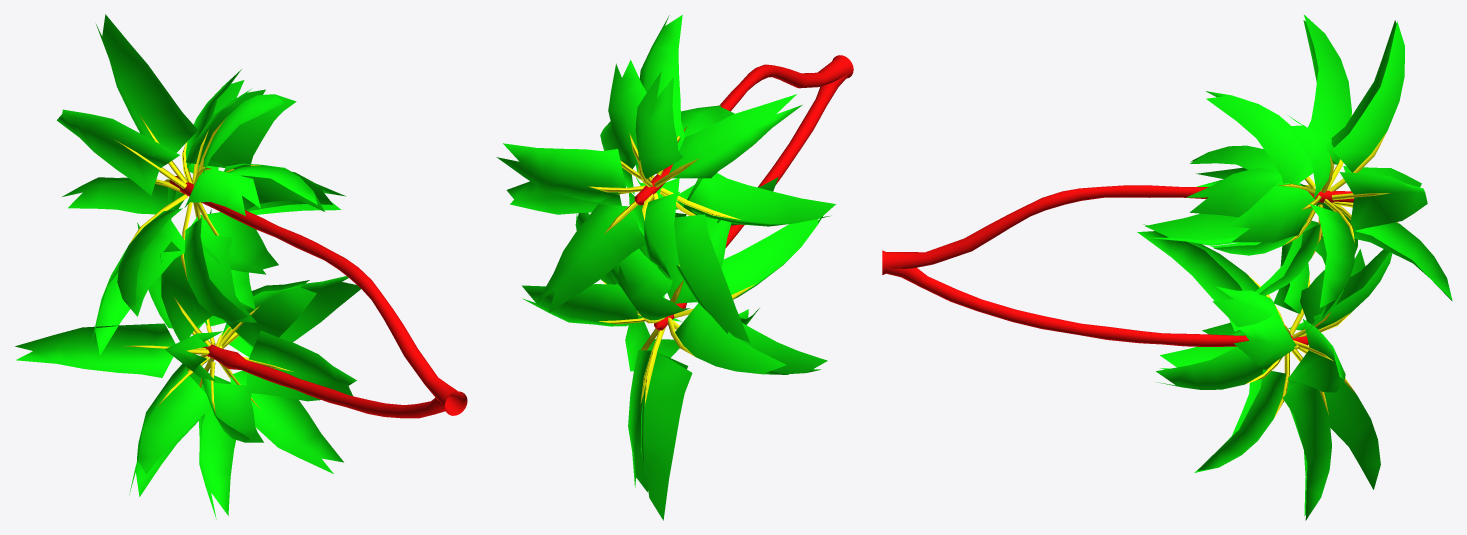
Rendered from M_P10_Tree_17.FBX.
3 views of the same model, side by side, from view 1: azimuth 30°, elevation 25°; view 2: azimuth 150°, elevation 25°; view 3: azimuth 270°, elevation 25° (orthographic). The views are drawn at different scales.
Parts seen in each view (by area): view 1: M_P10_Tree_17_LOD0; view 2: M_P10_Tree_17_LOD0; view 3: M_P10_Tree_17_LOD0.
Boxes of the visible parts, x1,y1,x2,y2 form: M_P10_Tree_17_LOD0: (15, 14, 467, 519); M_P10_Tree_17_LOD0: (496, 15, 853, 520); M_P10_Tree_17_LOD0: (882, 14, 1452, 520).
Bounding box in the file's own units: 292 × 482 × 435.
